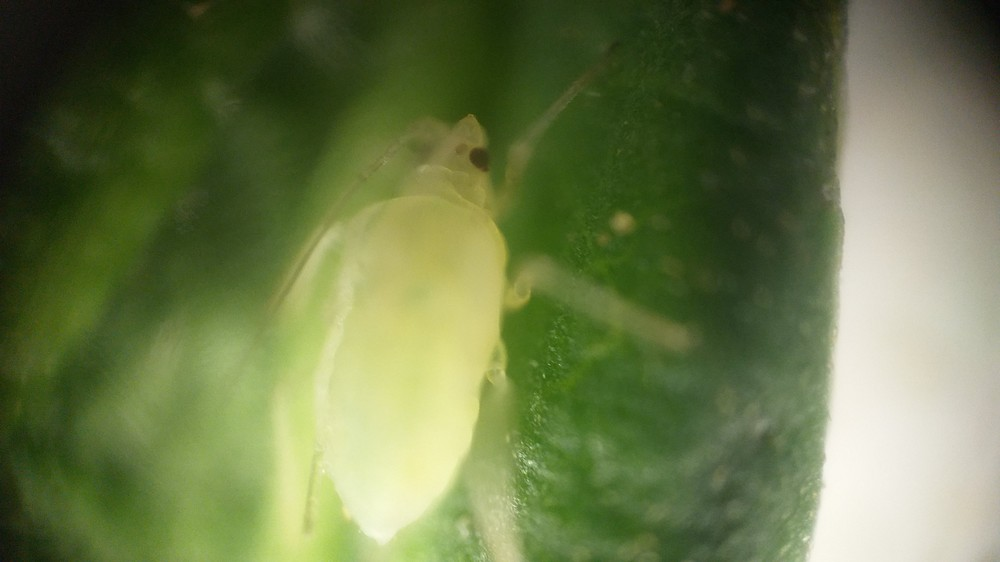Pulgon: (214, 49, 695, 557)
